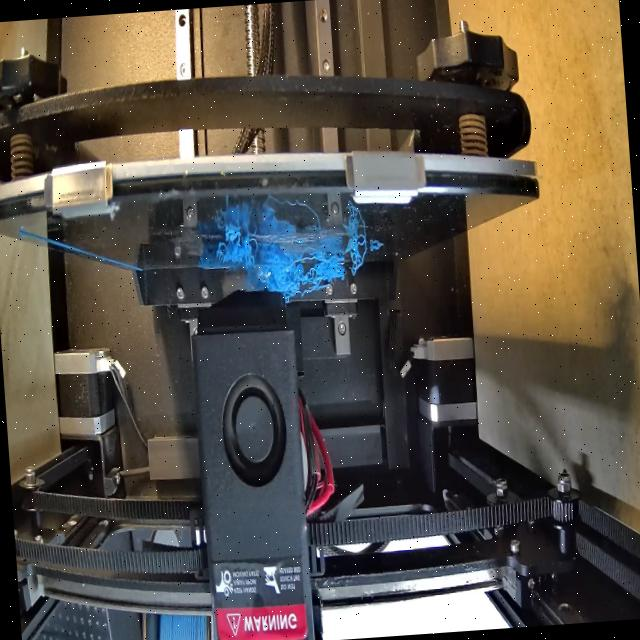spaghetti: (254, 238, 349, 298), (214, 224, 260, 280), (341, 233, 368, 278)
